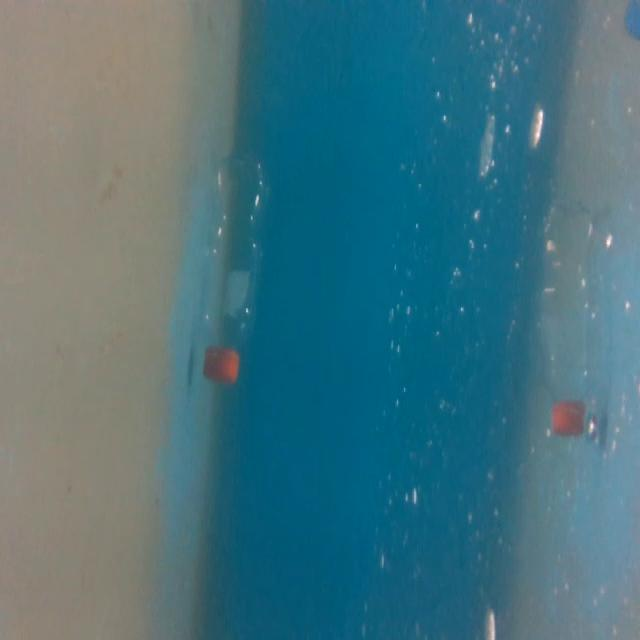plastic bottle: (191, 146, 274, 396)
